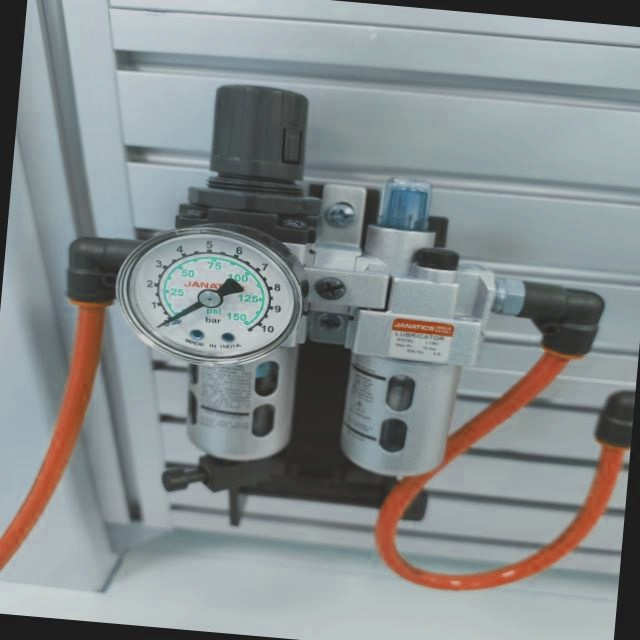FRL unit: (36, 59, 628, 542)
push button: (108, 213, 310, 373)
